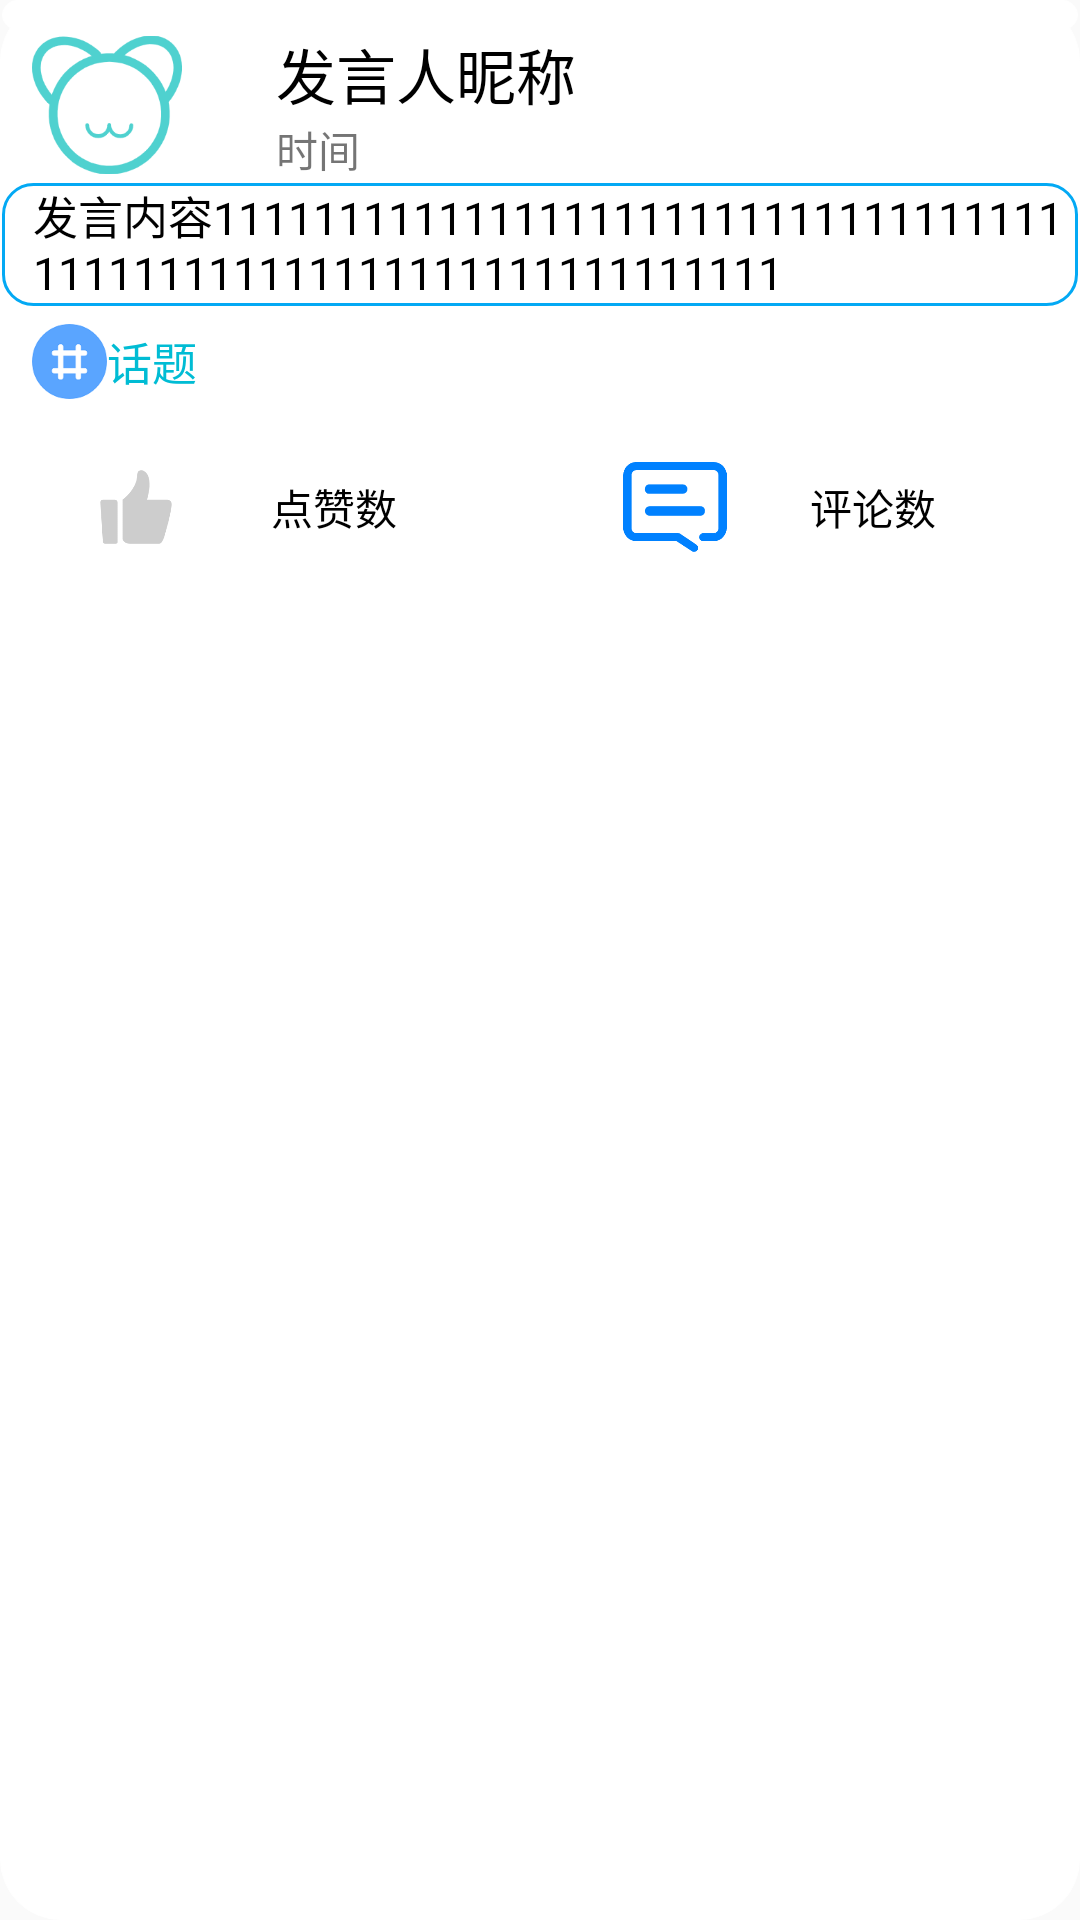

Named icons in this screenshot (1080 × 1920) and their centers, point (x, y):
dianzanno: point (136, 507)
pinglun: point (675, 507)
